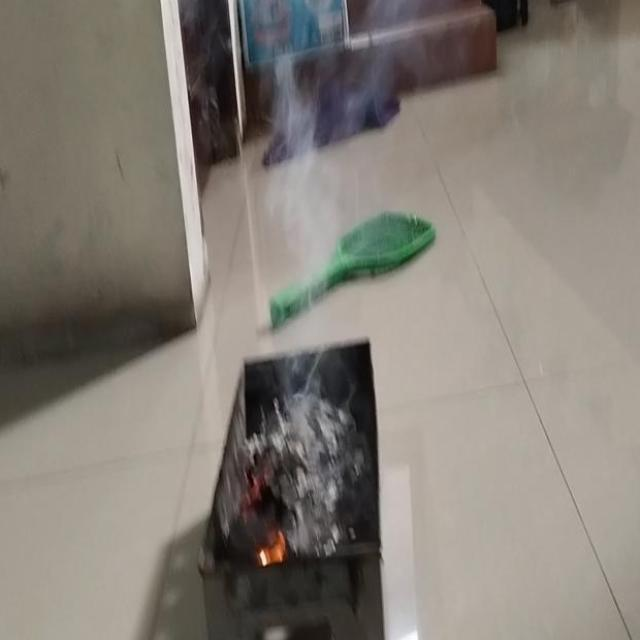fire: (262, 71, 339, 421), (338, 0, 432, 133)
smoke: (256, 524, 290, 570)
